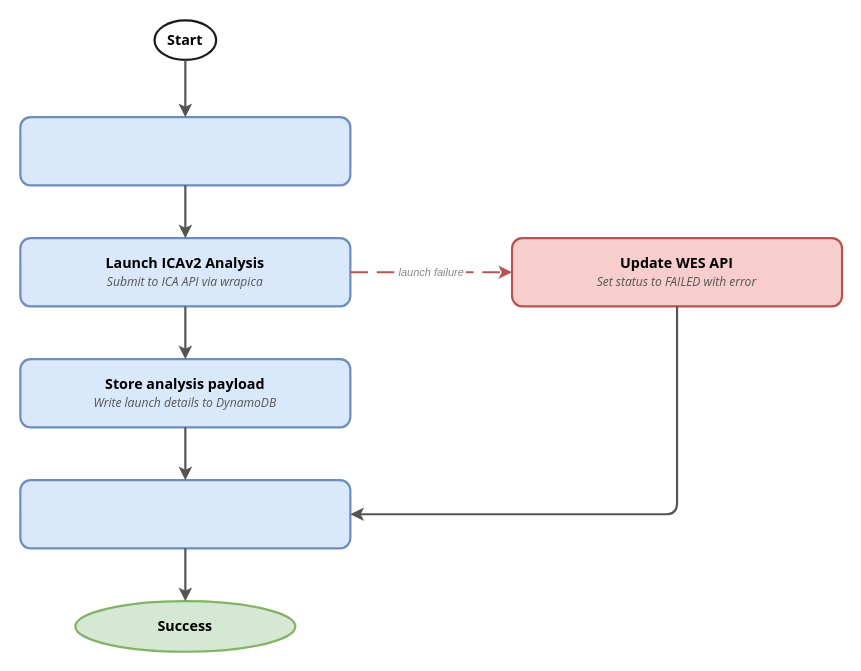
Some shapes in this 861 by 671 pixel diagram are drawn without their labels. The shapes that lost their labels are listed below. From the top down, each one's centre as x and y in pixels, then its label:
point (185, 151): Update WES API Set status to RUNNABLE
point (185, 514): Unlock callback ID Release waiting event-source Lambda
